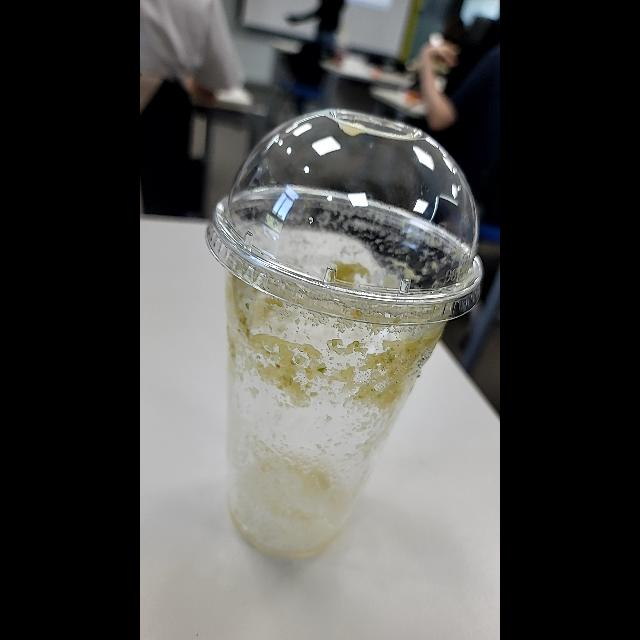plastic_cup: (199, 58, 489, 608)
plastic_cup_lid: (206, 108, 482, 328)
